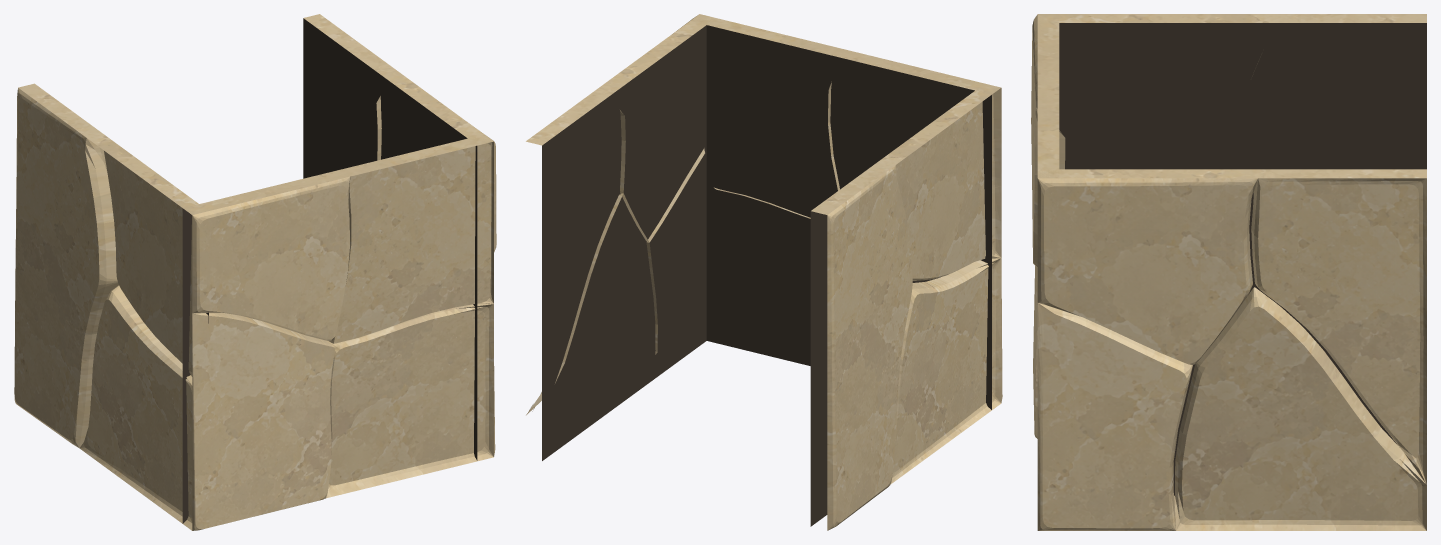
Rendered from ground_square_end_04.glb.
3 views of the same model, side by side, from view 1: azimuth 30°, elevation 25°; view 2: azimuth 150°, elevation 25°; view 3: azimuth 270°, elevation 25° (orthographic). The views are drawn at different scales.
Visible parts, largest first — view 1: GroundSquareEnd04_Body; view 2: GroundSquareEnd04_Body; view 3: GroundSquareEnd04_Body.
Part boxes in pixels (<box>): GroundSquareEnd04_Body: <box>14,14,496,530</box>; GroundSquareEnd04_Body: <box>526,14,1002,530</box>; GroundSquareEnd04_Body: <box>1031,14,1426,530</box>.
Bounding box in the file's own units: 1.04 × 1 × 1.02.
Materials: 13 (12 with a texture image).
